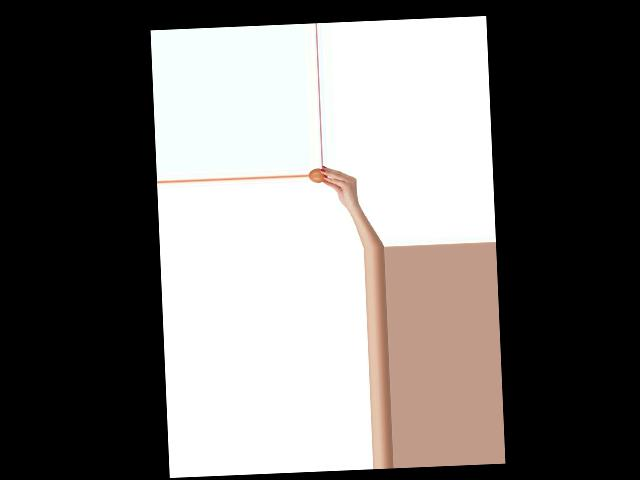egg: (309, 168, 327, 183)
